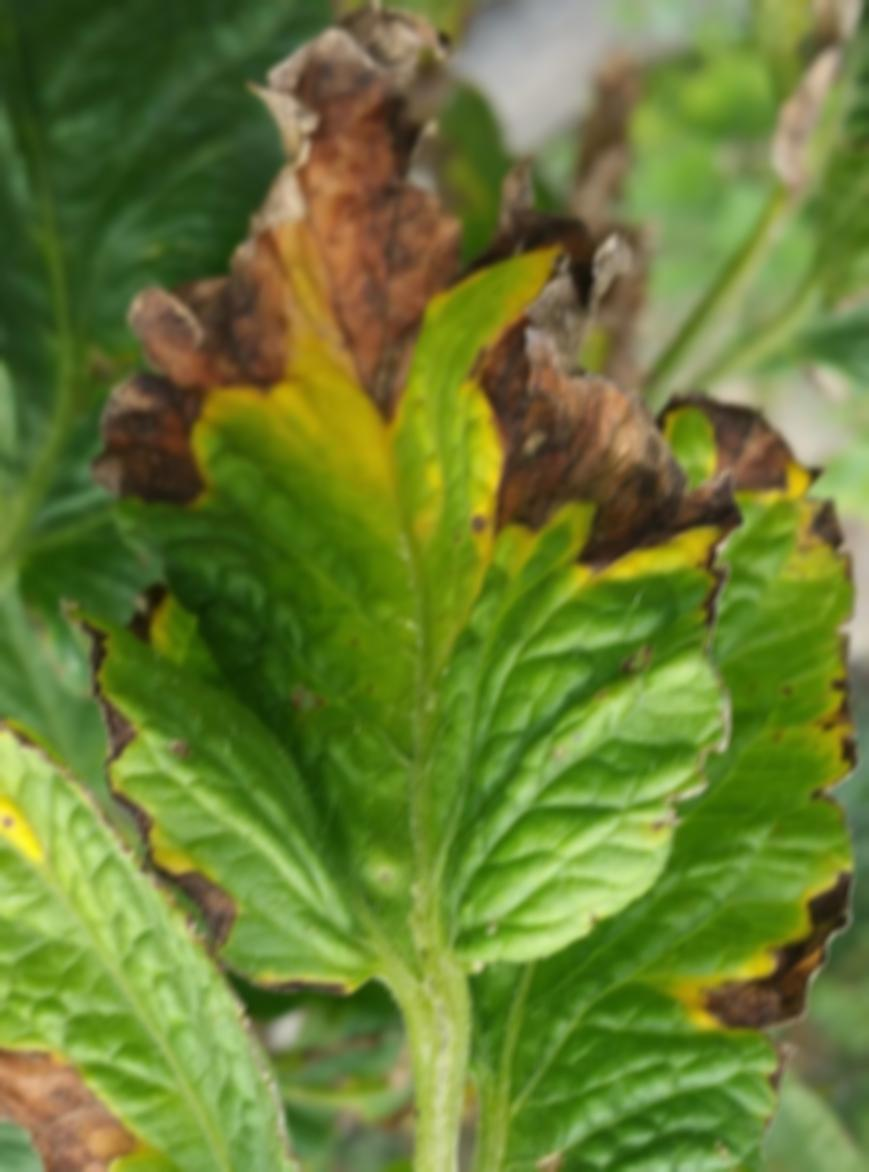Tomato leaf bacterial spot: (102, 47, 742, 1036), (418, 376, 869, 1172), (0, 576, 329, 1172)
